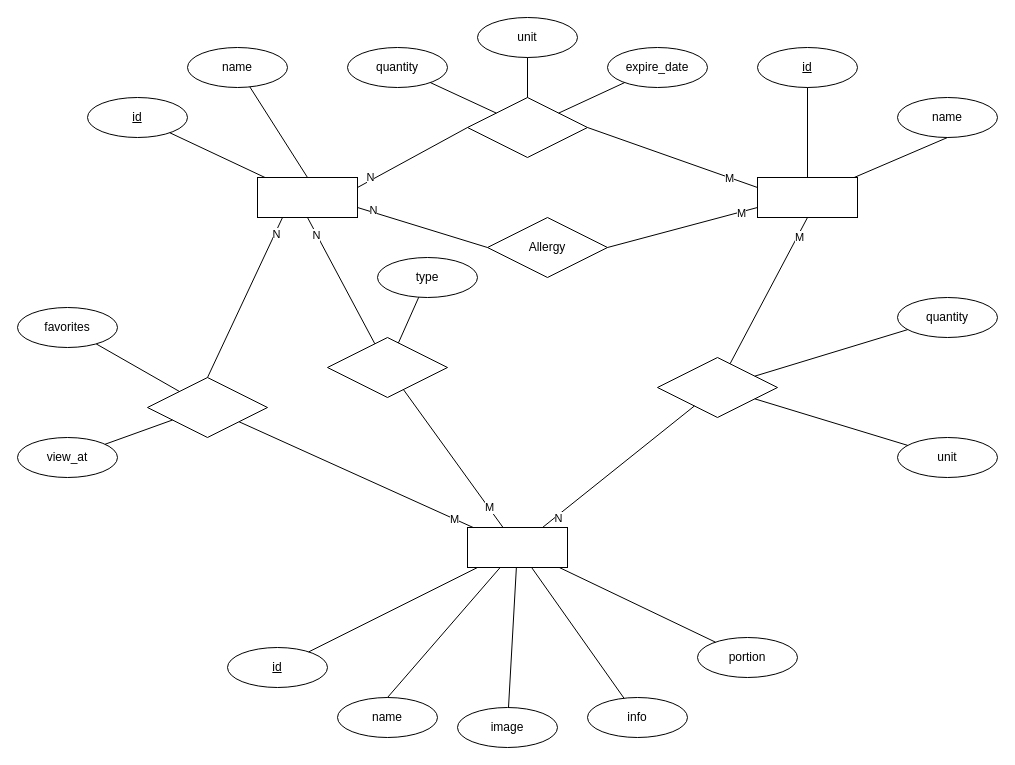
The diagram is 1015 pixels wide and 765 high, and some of its shapes have lost their labels. Here are the shapes that lost their labels. From the top down, the centre of each, then its label:
At point 527,127: "RefrigeratorIngredient".
At point 307,197: "User".
At point 807,197: "Ingredient".
At point 387,367: "FavoriteRecipe".
At point 717,387: "RecipeIngrdient".
At point 207,407: "CookHistory".
At point 517,547: "Recipe".
